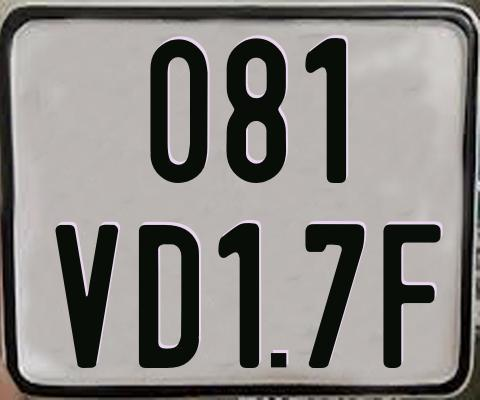0: (147, 39, 211, 185)
1: (215, 221, 259, 371), (305, 35, 346, 180)
7: (304, 222, 367, 367)
8: (226, 37, 289, 182)
D: (138, 223, 203, 370)
F: (380, 221, 438, 365)
V: (53, 224, 116, 370)
